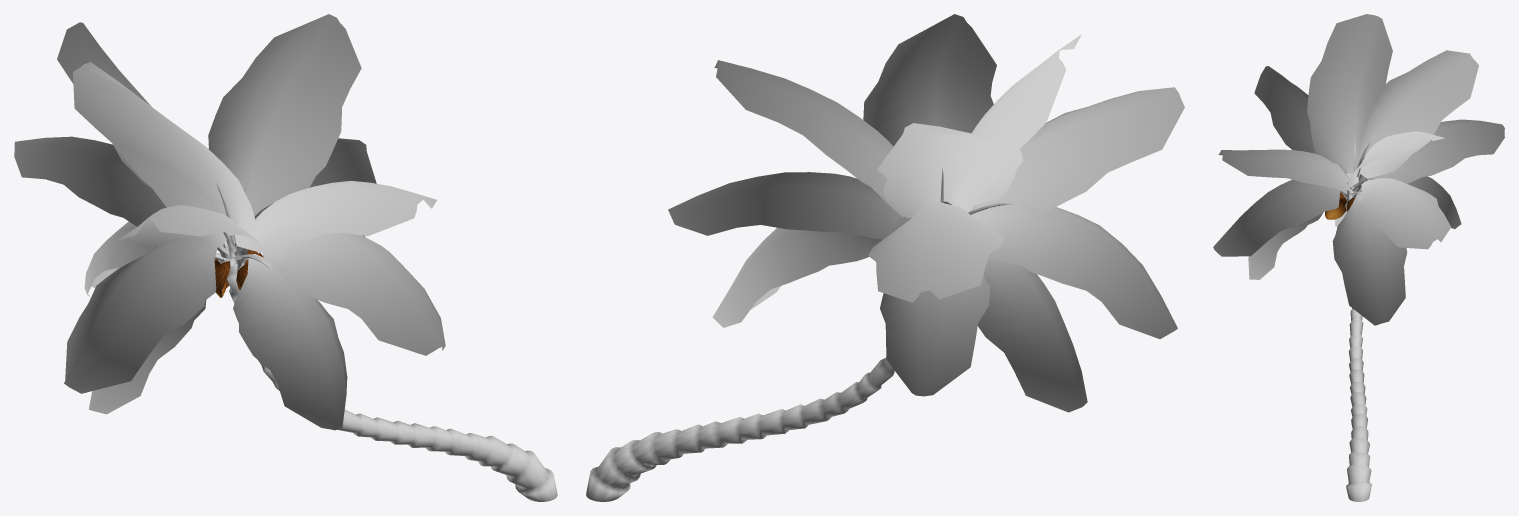
Rendered from coconut palm 01.obj.
3 renders of one model, left to right at view 1: azimuth 30°, elevation 25°; view 2: azimuth 150°, elevation 25°; view 3: azimuth 270°, elevation 25°, orthographic. The views are drawn at different scales.
Parts seen in each view (by area): view 1: palm leaf, palm bark, stem 01, coconut; view 2: palm leaf, palm bark; view 3: palm leaf, palm bark, stem 01, coconut.
Boxes of the visible parts, x1,y1,x2,y2 form: palm leaf: [14, 14, 445, 430]; palm bark: [225, 259, 557, 501]; stem 01: [214, 171, 273, 273]; coconut: [214, 249, 263, 297]; palm leaf: [668, 14, 1184, 412]; palm bark: [586, 357, 894, 501]; palm leaf: [1213, 14, 1504, 325]; palm bark: [1345, 196, 1371, 501]; stem 01: [1330, 140, 1374, 202]; coconut: [1325, 192, 1354, 219].
Size of the model in its own units: 555 by 542 by 417.
